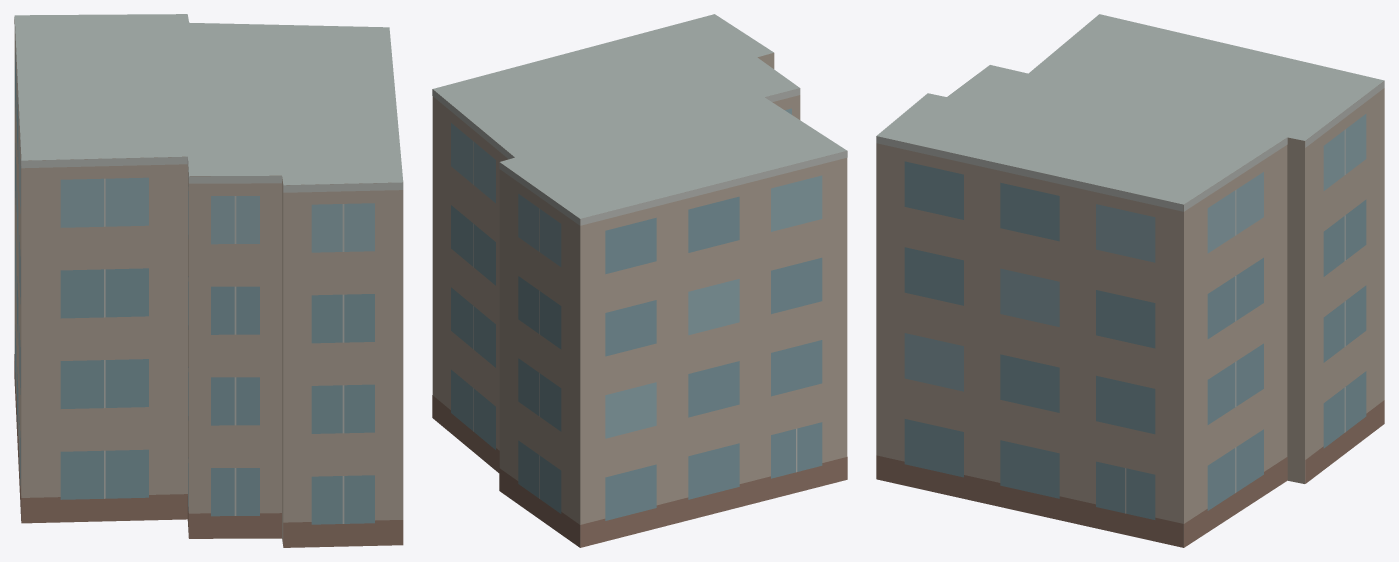
Rendered from survey-upis-32581984.glb.
The picture shows the model from 3 angles, left to right: view 1: azimuth 30°, elevation 25°; view 2: azimuth 150°, elevation 25°; view 3: azimuth 270°, elevation 25°; orthographic projection. The views are drawn at different scales.
Parts seen in each view (by area): view 1: survey-upis-32581984.tmp; view 2: survey-upis-32581984.tmp; view 3: survey-upis-32581984.tmp.
Part boxes in pixels (x1,y1,x2,y2): survey-upis-32581984.tmp: (14, 14, 403, 547); survey-upis-32581984.tmp: (432, 14, 847, 547); survey-upis-32581984.tmp: (876, 14, 1384, 547).
Size of the model in its own units: 13.82 by 11.6 by 15.58.
